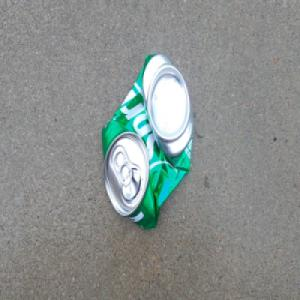SodaCan: (100, 51, 195, 232)
